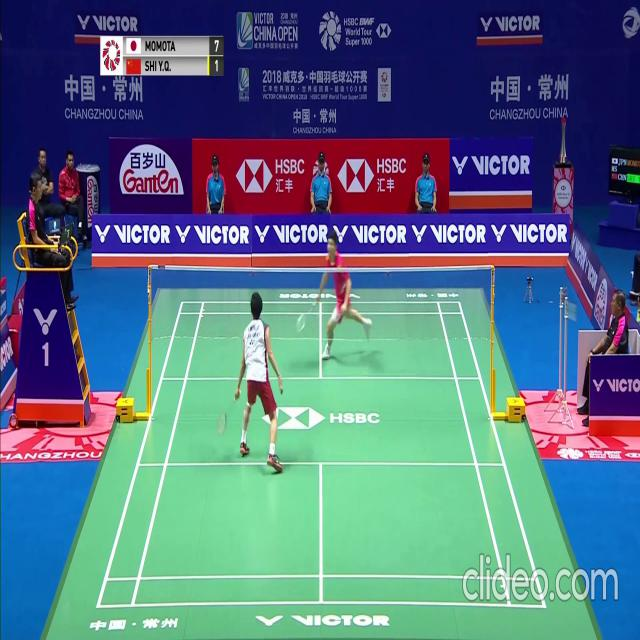Shuttlecock: (222, 225, 227, 232)
